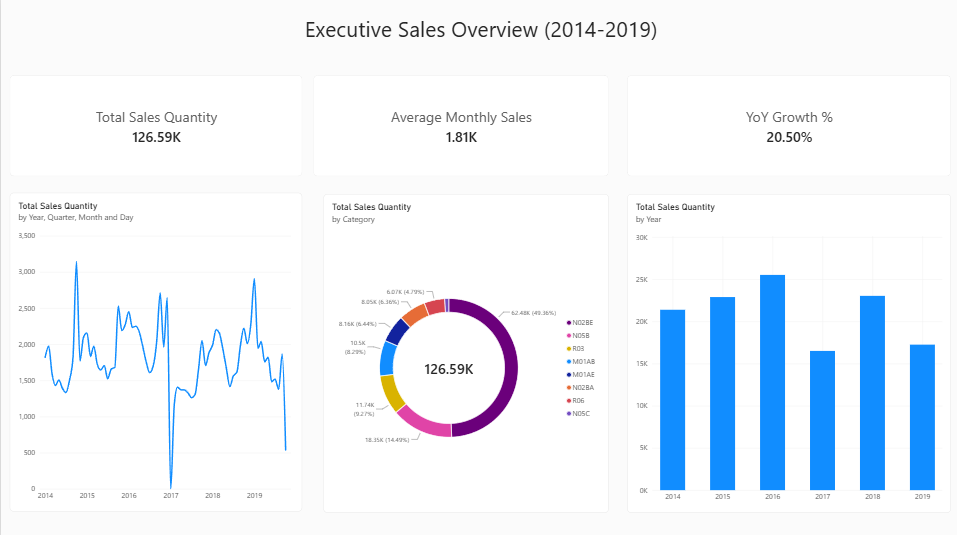

This screenshot's page, from the dashboard's own definition file:
{"tool":"powerbi","page":{"name":"Page 1","canvas":[1920,1080],"ordinal":0},"visuals":[{"type":"cardVisual","fields":{"Data":["_Measures.Total Sales Quantity"]},"box":[17.5,152.5,585,202.5],"z":0},{"type":"cardVisual","fields":{"Data":["_Measures.Average Monthly Sales"]},"box":[625,152.5,590,202.5],"z":1000},{"type":"cardVisual","fields":{"Data":["_Measures.YoY Growth %"]},"box":[1252.5,152.5,647.5,202.5],"z":2000},{"type":"lineChart","fields":{"Category":["powerbi_sales.Year_Month.Variation.Date Hierarchy.Year","powerbi_sales.Year_Month.Variation.Date Hierarchy.Quarter","powerbi_sales.Year_Month.Variation.Date Hierarchy.Month","powerbi_sales.Year_Month.Variation.Date Hierarchy.Day"],"Y":["_Measures.Total Sales Quantity"]},"box":[17.5,387.5,585,637.5],"z":3000},{"type":"donutChart","fields":{"Category":["powerbi_sales.Category"],"Y":["_Measures.Total Sales Quantity"]},"box":[645,390,570,637.5],"z":4000},{"type":"clusteredColumnChart","fields":{"Category":["powerbi_sales.Year"],"Y":["_Measures.Total Sales Quantity"]},"box":[1252.5,390,647.5,637.5],"z":5000},{"type":"textbox","box":[0,30,1920,65],"z":5001}]}

Visuals, with their boxes in screenshot pixels (x1, y1, x2, y2), scaled from the page's 1920x1080 canvas onto the 957x535 screenshot:
cardVisual - _Measures.Total Sales Quantity: bbox(9, 76, 300, 176)
cardVisual - _Measures.Average Monthly Sales: bbox(312, 76, 606, 176)
cardVisual - _Measures.YoY Growth %: bbox(624, 76, 947, 176)
lineChart - powerbi_sales.Year_Month.Variation.Date Hierarchy.Year x powerbi_sales.Year_Month.Variation.Date Hierarchy.Quarter: bbox(9, 192, 300, 508)
donutChart - powerbi_sales.Category x _Measures.Total Sales Quantity: bbox(321, 193, 606, 509)
clusteredColumnChart - powerbi_sales.Year x _Measures.Total Sales Quantity: bbox(624, 193, 947, 509)
textbox: bbox(0, 15, 956, 47)
